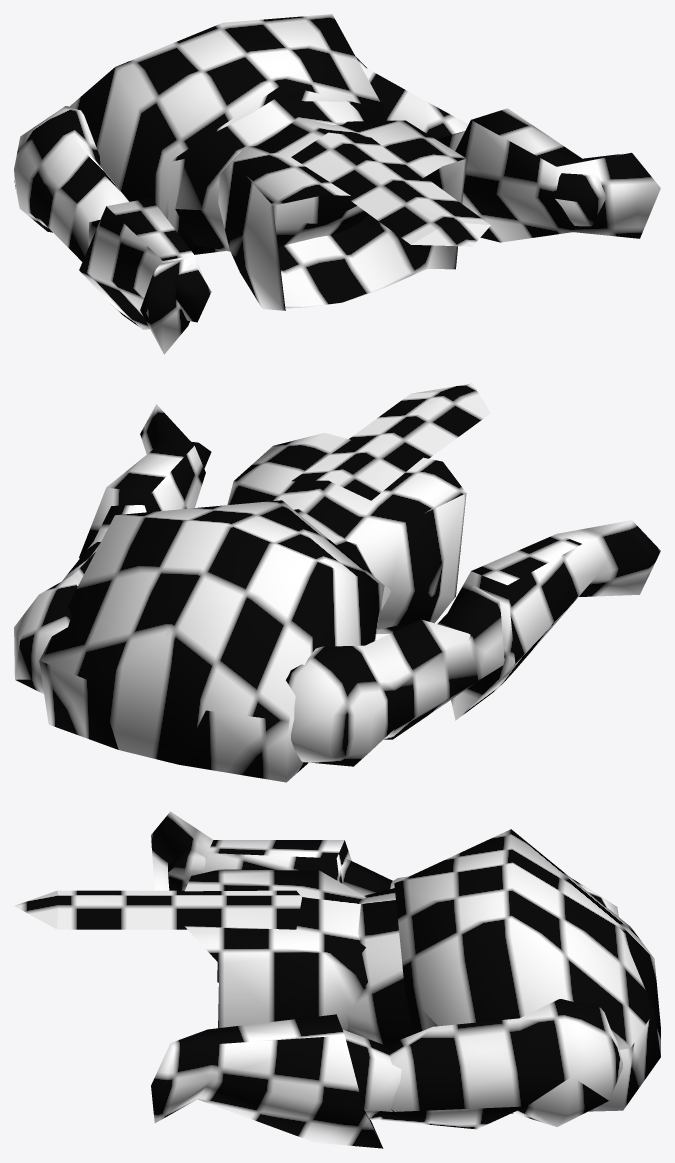
File: initarpl9.dae
3 views of the same model, one above another, from view 1: azimuth 30°, elevation 25°; view 2: azimuth 150°, elevation 25°; view 3: azimuth 270°, elevation 25° (orthographic).
Parts seen in each view (by area): view 1: armor; view 2: armor; view 3: armor.
Part boxes in pixels (x1,y1,x2,y2): armor: (14, 14, 660, 354); armor: (14, 383, 660, 782); armor: (14, 811, 660, 1148).
Size of the model in its own units: 1.78 by 1.94 by 0.6673.
1 material, 1 textured.
